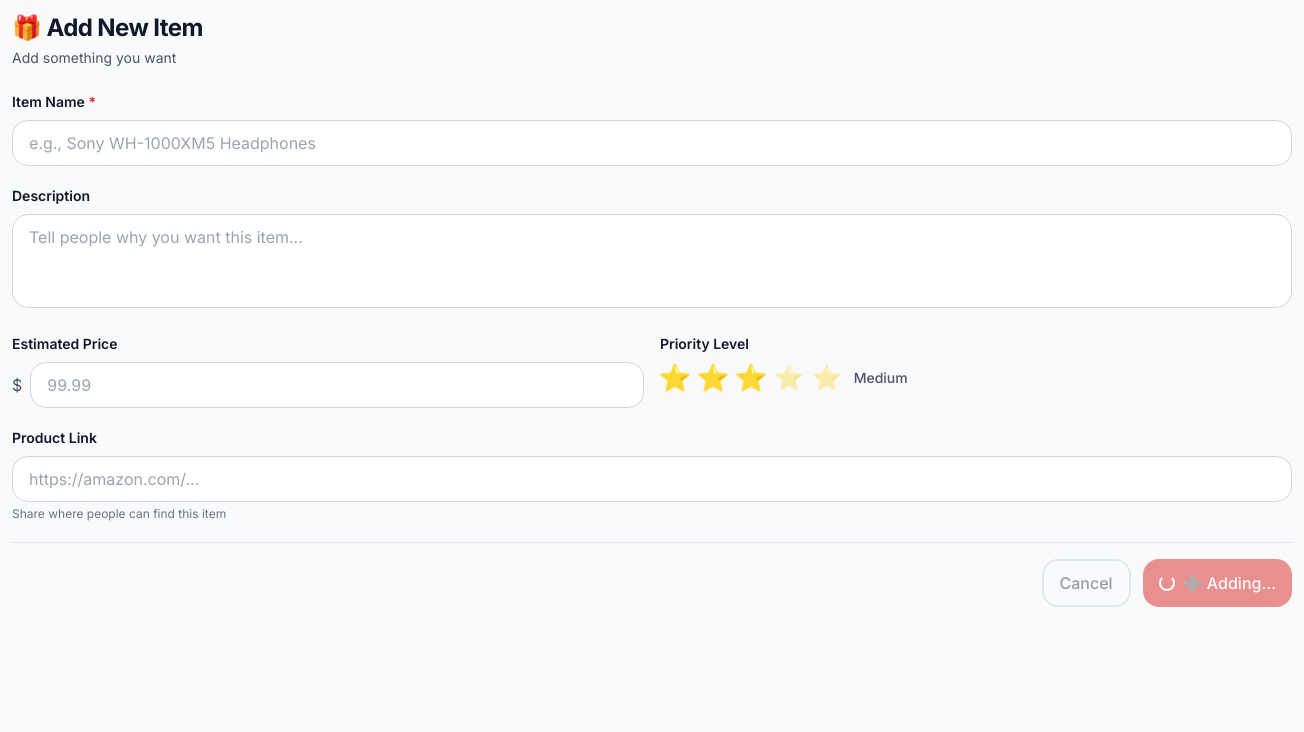
ItemForm › should show loading indicator when isLoadingMetadata is true and link exists
Step 1. Type "https://example.com" into the field with placeholder "https://amazon.com/..." → (652, 479), box [12,456,1292,502]
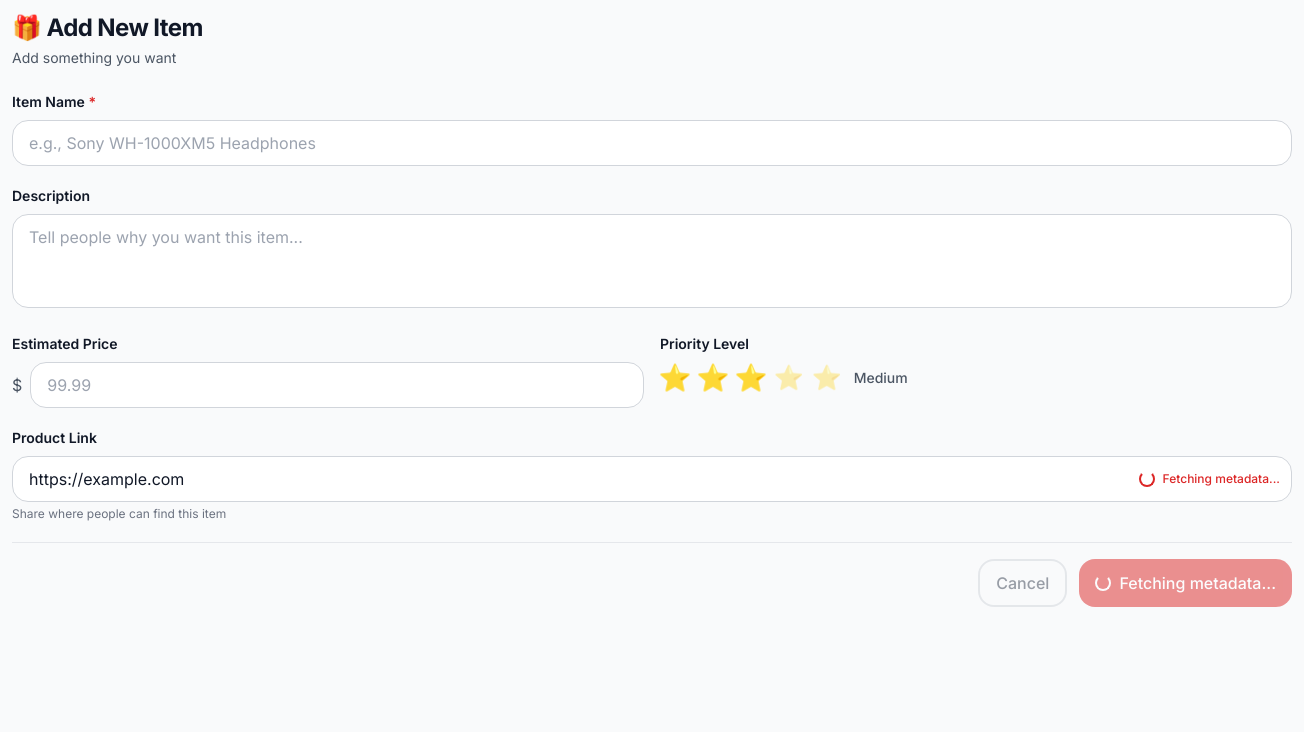
expect the text "Fetching metadata..." is shown: met, box [1162,471,1280,487]
